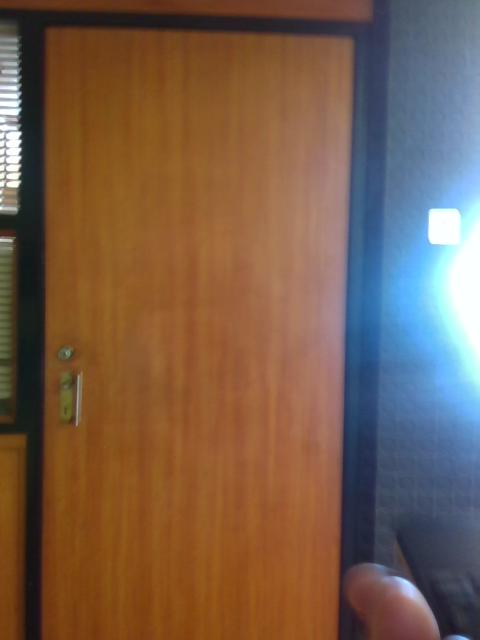closed_door: (28, 17, 361, 639)
